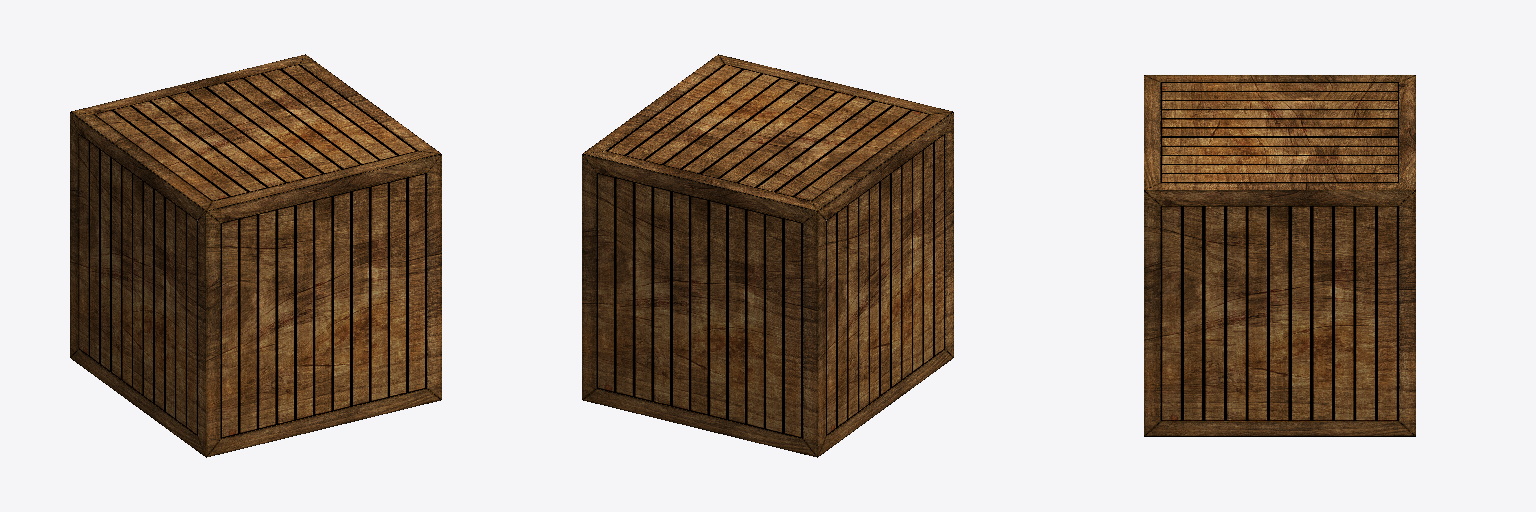
The picture shows the model from 3 angles: view 1: azimuth 30°, elevation 25°; view 2: azimuth 150°, elevation 25°; view 3: azimuth 270°, elevation 25°; orthographic projection.
Visible parts, largest first — view 1: wood-box-s5; view 2: wood-box-s5; view 3: wood-box-s5.
Boxes of the visible parts, x1,y1,x2,y2 form: wood-box-s5: [70, 54, 441, 457]; wood-box-s5: [582, 54, 953, 457]; wood-box-s5: [1144, 75, 1415, 436].
Bounding box in the file's own units: 2 × 2 × 2.
Materials: 1 (1 with a texture image).